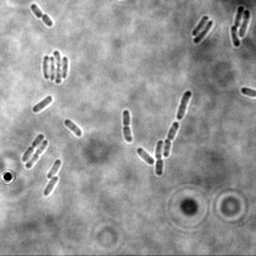Dividing: (20, 133, 45, 164), (25, 140, 49, 170), (162, 121, 179, 158), (30, 3, 53, 28), (175, 90, 192, 120), (154, 139, 165, 177), (121, 109, 133, 143)
Microcolony: (42, 50, 69, 86)
Rod: (193, 20, 214, 45), (31, 95, 54, 114), (237, 9, 251, 39), (191, 14, 209, 37), (63, 119, 83, 138), (42, 176, 59, 197), (46, 159, 63, 180), (137, 147, 155, 166), (233, 4, 245, 27), (229, 25, 241, 48)
